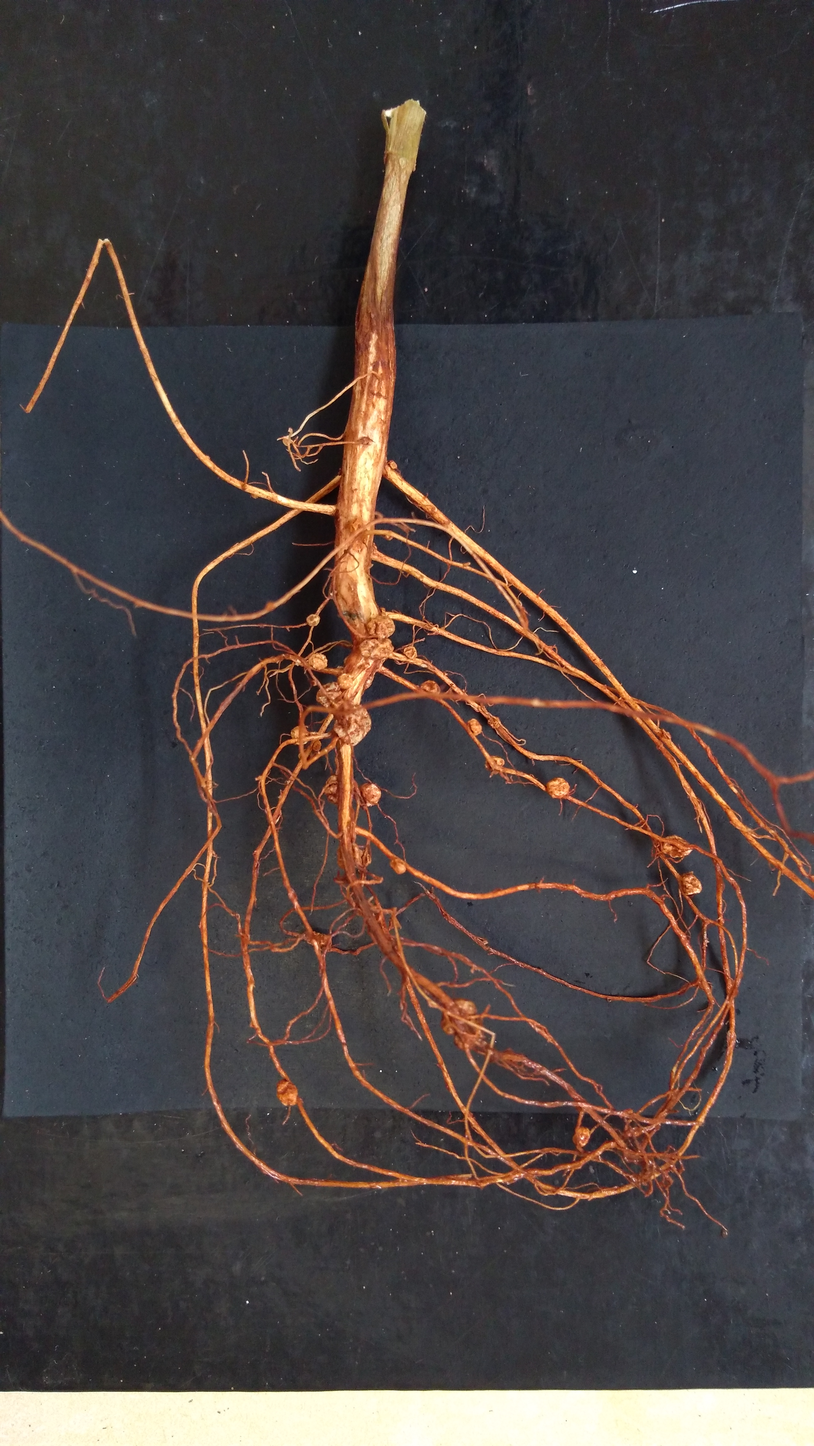nodule: (440, 999, 489, 1051), (333, 703, 373, 748), (334, 843, 374, 872), (356, 637, 396, 662), (274, 1076, 300, 1110), (661, 833, 694, 859), (364, 614, 398, 638), (356, 781, 383, 809), (313, 681, 341, 707), (545, 775, 571, 802), (322, 773, 341, 809), (678, 872, 705, 897), (483, 755, 508, 775), (571, 1125, 591, 1149), (419, 679, 444, 696), (289, 724, 309, 745), (389, 857, 409, 878), (306, 652, 329, 670), (466, 716, 483, 739), (336, 672, 354, 691), (403, 644, 419, 661), (304, 613, 322, 627), (311, 740, 324, 753), (387, 460, 399, 471)
